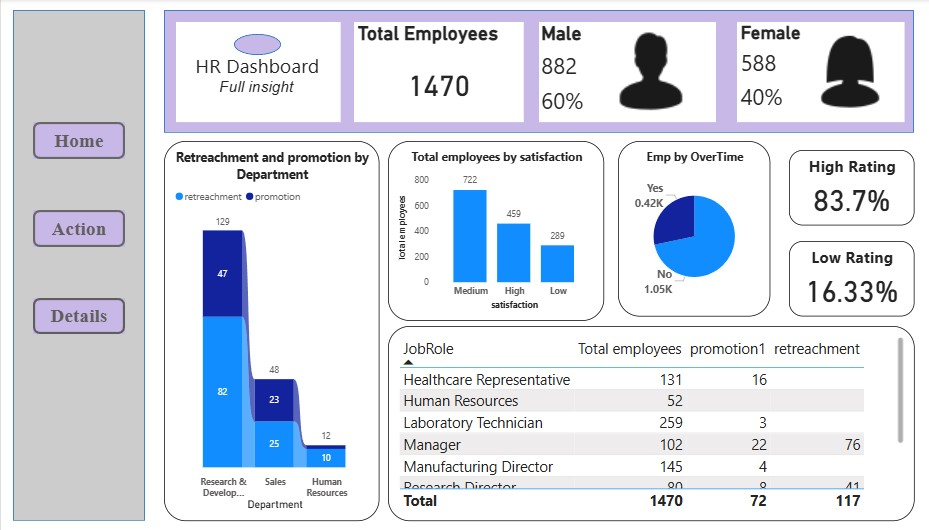

This screenshot's page, from the dashboard's own definition file:
{"tool":"powerbi","page":{"name":"Details","canvas":[1282,734],"ordinal":2},"visuals":[{"type":"shape","box":[224.3,15.1,1033.6,169.3],"z":0},{"type":"columnChart","fields":{"Category":["in.satisfaction"],"Y":["in.Total employees"]},"box":[532.8,195.8,298.1,247.7],"z":1000},{"type":"pieChart","title":"Emp by OverTime","fields":{"Category":["in.OverTime"],"Y":["CountNonNull(in.EmployeeNumber)"]},"box":[851,195.8,210.2,241.9],"z":2000},{"type":"columnChart","title":"Retreachment and promotion by Department","fields":{"Category":["in.Department"],"Y":["in.retreachment","in.promotion1"]},"box":[224.6,195.8,296.6,524.2],"z":3000},{"type":"tableEx","fields":{"Values":["in.JobRole","in.Total employees","in.promotion1","in.retreachment"]},"box":[532.8,450.7,725.8,269.3],"z":4000},{"type":"multiRowCard","title":"Male","fields":{"Values":["in.Male","in.Male %"]},"box":[741.8,31.7,243.6,137.6],"z":5000},{"type":"multiRowCard","title":"Female","fields":{"Values":["in.Female","in.Female %"]},"box":[1014.4,31.7,231.2,137.6],"z":6000},{"type":"card","title":"Total Employees","fields":{"Values":["in.Total employees"]},"box":[487.2,31.7,234,137.6],"z":7000},{"type":"card","title":"Low Rating","fields":{"Values":["in.low_rating%"]},"box":[1085.8,334.1,172.8,103.7],"z":8000},{"type":"card","title":"High Rating","fields":{"Values":["in.highrate%"]},"box":[1085.8,208.8,172.8,103.7],"z":9000},{"type":"textbox","box":[240.9,31.7,227.1,137.6],"z":10000},{"type":"shape","box":[16.5,15.2,182,704.4],"z":11000},{"type":"actionButton","box":[44.1,169.6,126.8,51],"z":12000},{"type":"actionButton","box":[44.1,290.9,126.8,51],"z":13000},{"type":"actionButton","box":[44.1,412.2,126.8,49.6],"z":14000},{"type":"shape","box":[321.2,48.2,64.8,28.9],"z":15000},{"type":"image","box":[839.6,37.2,117,125.2],"z":16000},{"type":"image","box":[1117.6,42.7,108.7,114.2],"z":17000}]}

Visuals, with their boxes in screenshot pixels (x1, y1, x2, y2), scaled from the page's 1282x734 canvas onto the 929x530 screenshot:
shape: {"left": 163, "top": 11, "right": 912, "bottom": 133}
columnChart - in.satisfaction x in.Total employees: {"left": 386, "top": 141, "right": 602, "bottom": 320}
"Emp by OverTime" pieChart: {"left": 617, "top": 141, "right": 769, "bottom": 316}
"Retreachment and promotion by Department" columnChart: {"left": 163, "top": 141, "right": 378, "bottom": 520}
tableEx - in.JobRole x in.Total employees: {"left": 386, "top": 325, "right": 912, "bottom": 520}
"Male" multiRowCard: {"left": 538, "top": 23, "right": 714, "bottom": 122}
"Female" multiRowCard: {"left": 735, "top": 23, "right": 903, "bottom": 122}
"Total Employees" card: {"left": 353, "top": 23, "right": 523, "bottom": 122}
"Low Rating" card: {"left": 787, "top": 241, "right": 912, "bottom": 316}
"High Rating" card: {"left": 787, "top": 151, "right": 912, "bottom": 226}
textbox: {"left": 175, "top": 23, "right": 339, "bottom": 122}
shape: {"left": 12, "top": 11, "right": 144, "bottom": 520}
actionButton: {"left": 32, "top": 122, "right": 124, "bottom": 159}
actionButton: {"left": 32, "top": 210, "right": 124, "bottom": 247}
actionButton: {"left": 32, "top": 298, "right": 124, "bottom": 333}
shape: {"left": 233, "top": 35, "right": 280, "bottom": 56}
image: {"left": 608, "top": 27, "right": 693, "bottom": 117}
image: {"left": 810, "top": 31, "right": 889, "bottom": 113}
